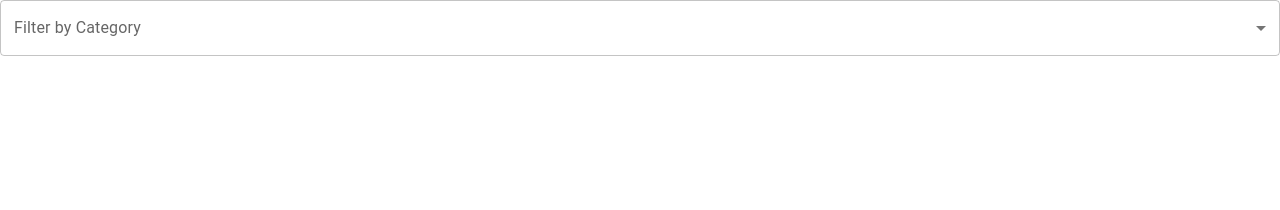
CategoryFilter Component › displays all categories in dropdown
The width and height of the screenshot is (1280, 210).
Click the dropdown.
click(640, 28)  # box left=0, top=0, right=1279, bottom=56
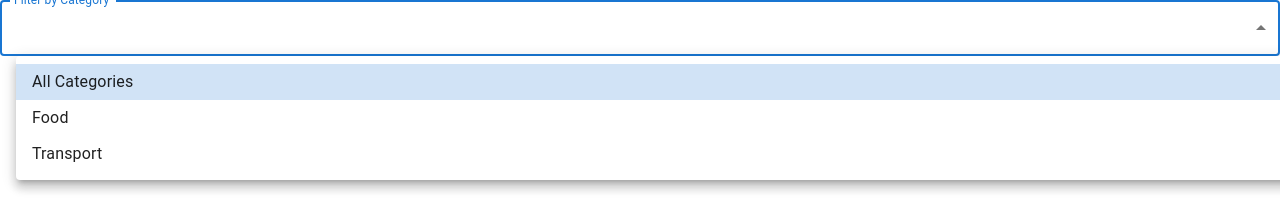
Now the option "Food" is shown, box left=32, top=108, right=69, bottom=127
Now the option "Transport" is shown, box left=32, top=144, right=102, bottom=163
